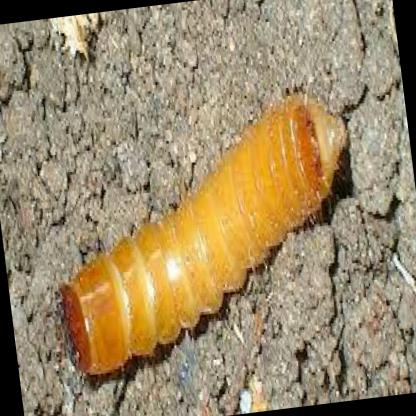root grubs: (63, 88, 347, 375)
